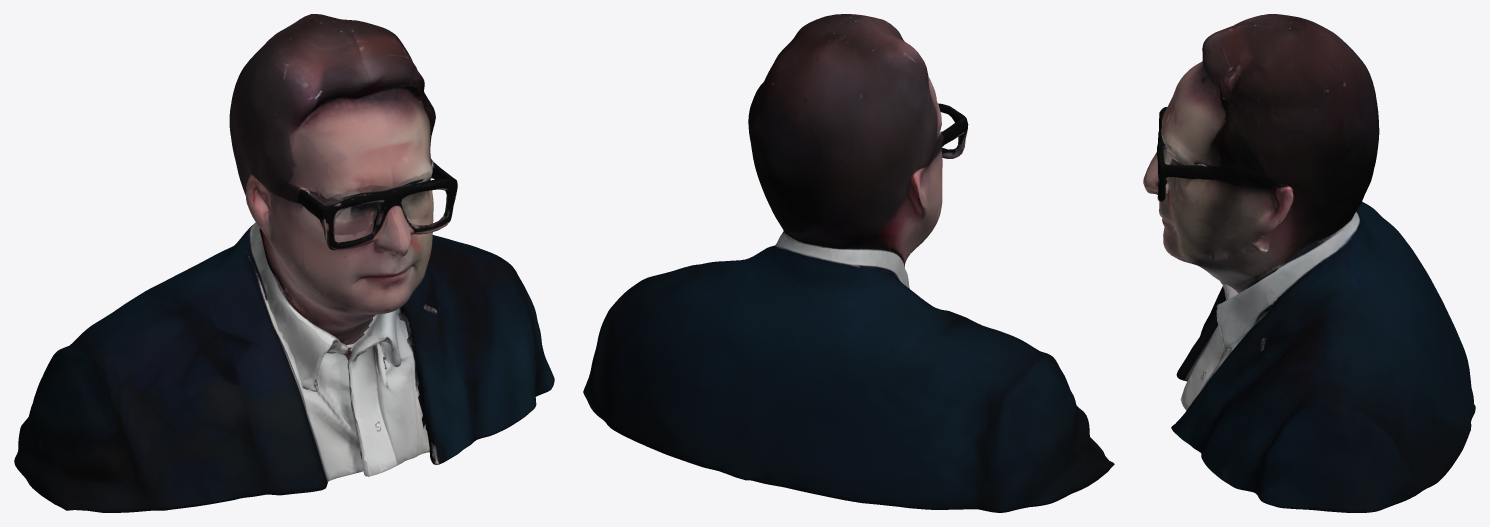
3 renders of one model, left to right at view 1: azimuth 30°, elevation 25°; view 2: azimuth 150°, elevation 25°; view 3: azimuth 270°, elevation 25°, orthographic. The views are drawn at different scales.
Visible parts, largest first — view 1: textured_mesh; view 2: textured_mesh; view 3: textured_mesh.
Boxes of the visible parts, left/top/right/bottom form: textured_mesh: left=14, top=14, right=554, bottom=512; textured_mesh: left=583, top=14, right=1114, bottom=512; textured_mesh: left=1143, top=14, right=1475, bottom=512.
Bounding box in the file's own units: 1.99 × 1.52 × 1.19.
Materials: 1 (1 with a texture image).
